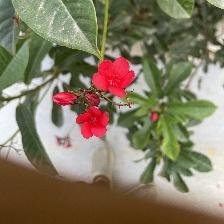jatropha: (90, 54, 140, 100)
